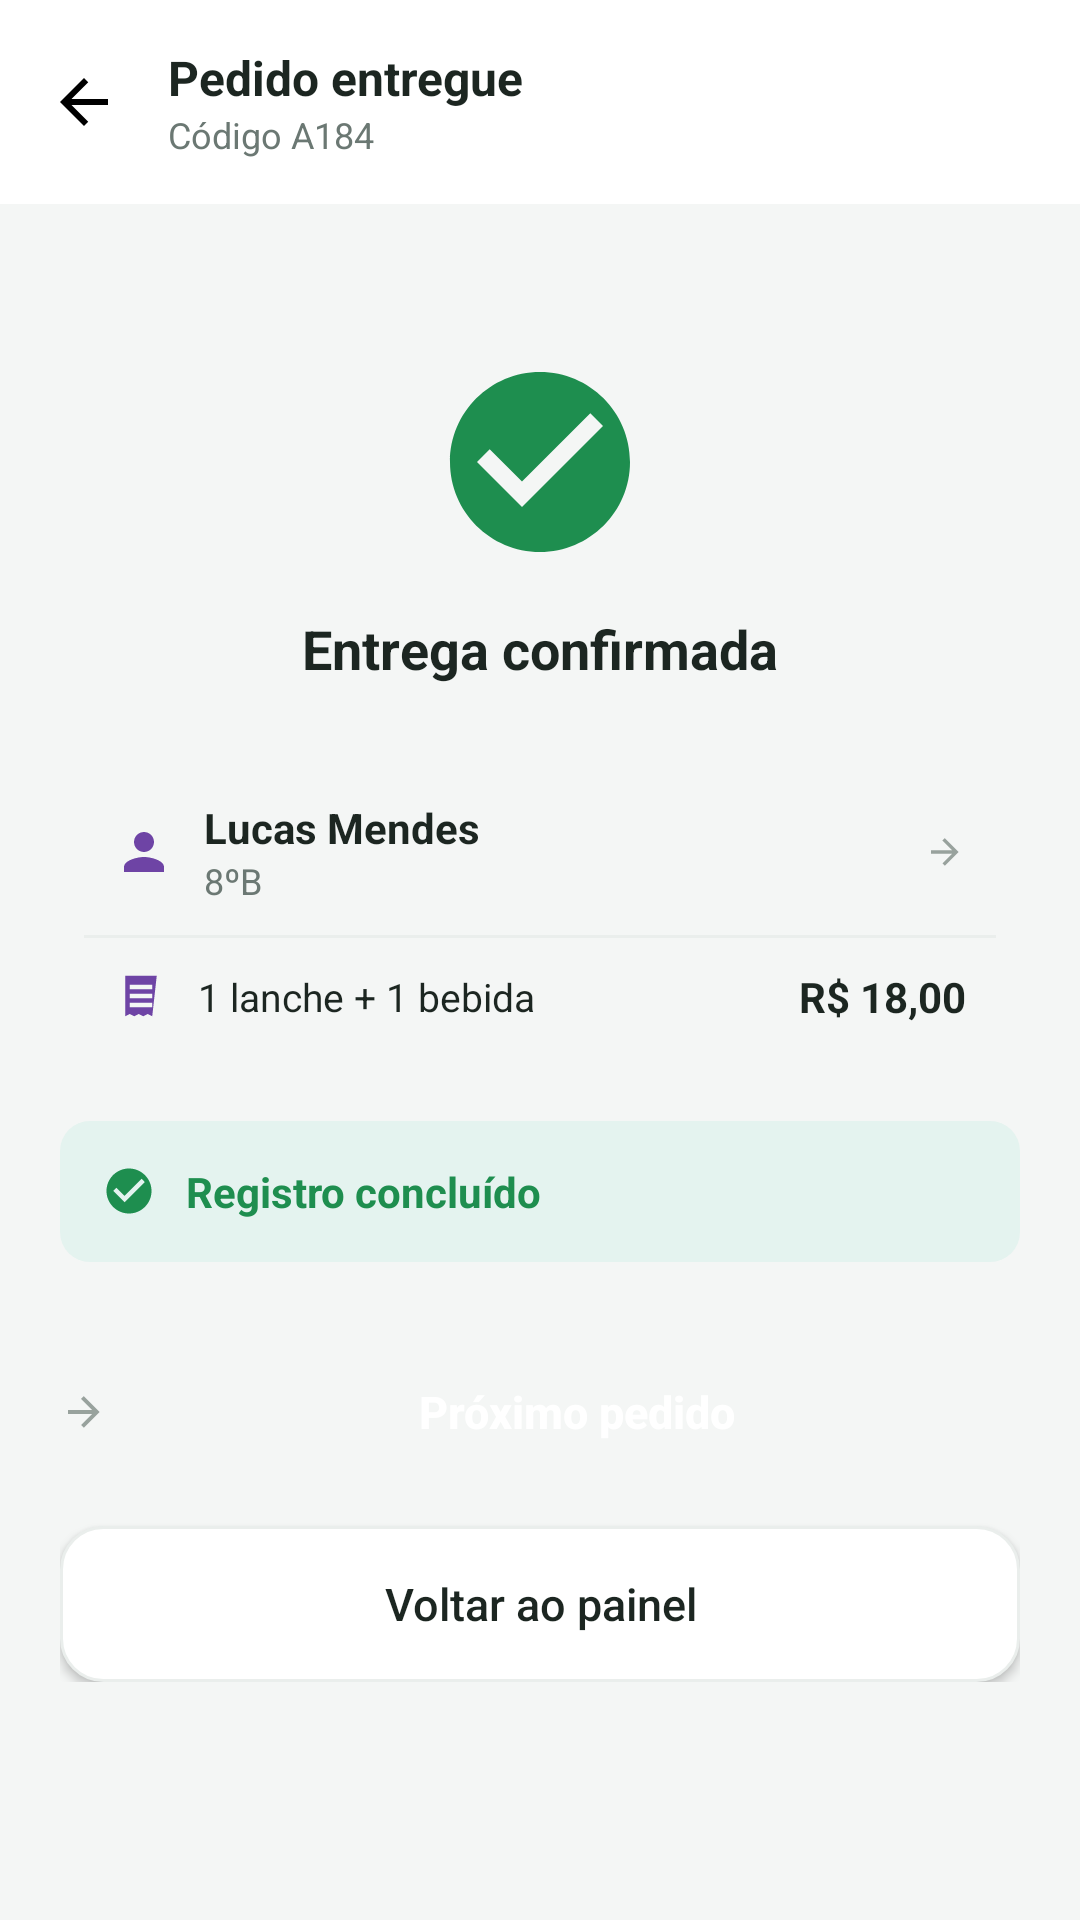

Point at icon controls on the screen. Image size 1080×1920, points as (x=x, y=y).
arrow forward: (x=944, y=852)
check circle: (x=540, y=462), (x=129, y=1191)
person: (x=144, y=852)
receipt: (x=141, y=995)
Voltar: (x=84, y=102)
